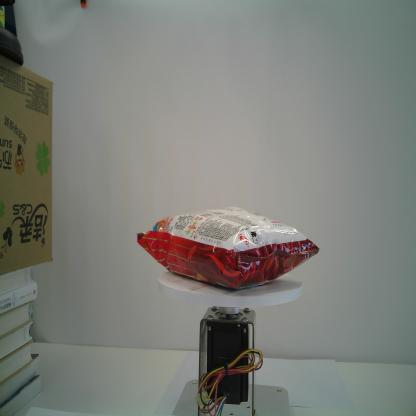Puffed Food: (136, 205, 320, 291)
